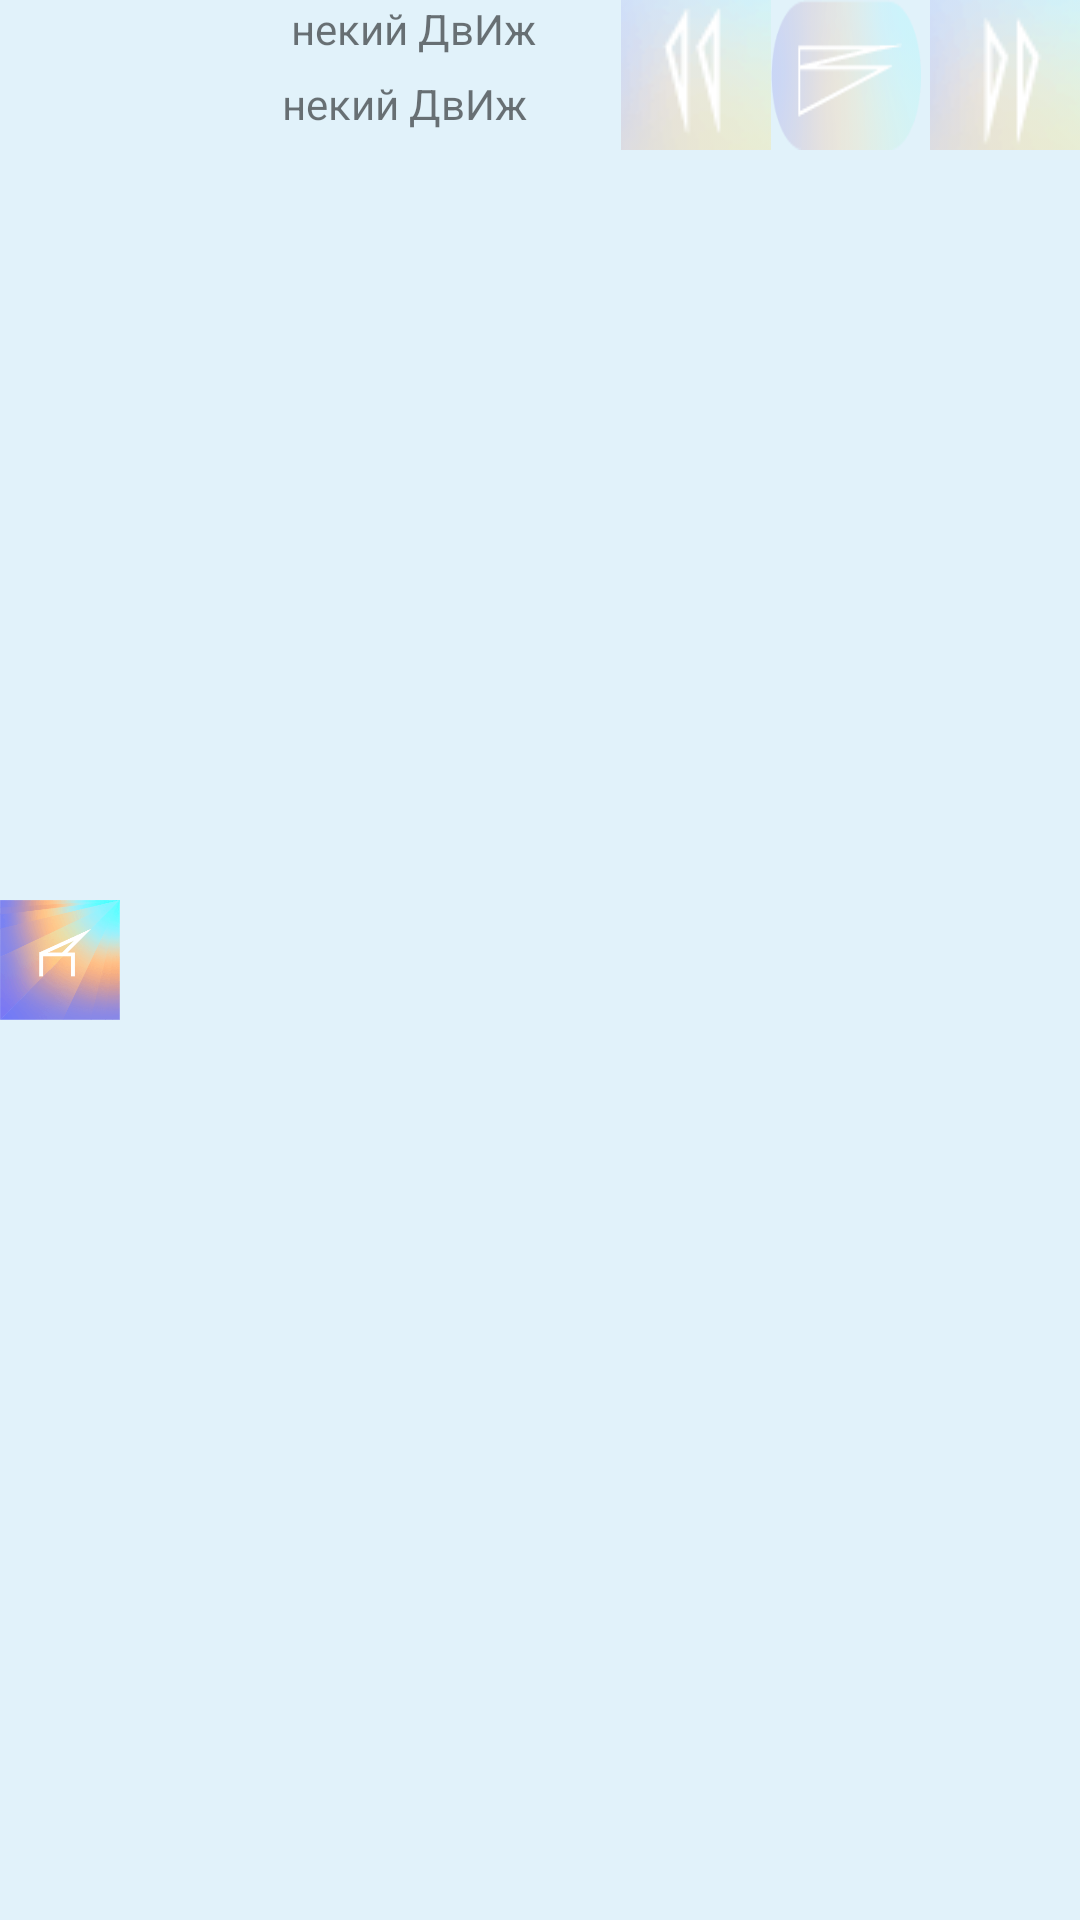

Named icons in this screenshot (1080px×1920px) and their bounding boxes, (x1, y1, x2, y2):
next: (930, 22, 1080, 150)
play: (771, 1, 921, 150)
previous: (621, 0, 771, 150)
